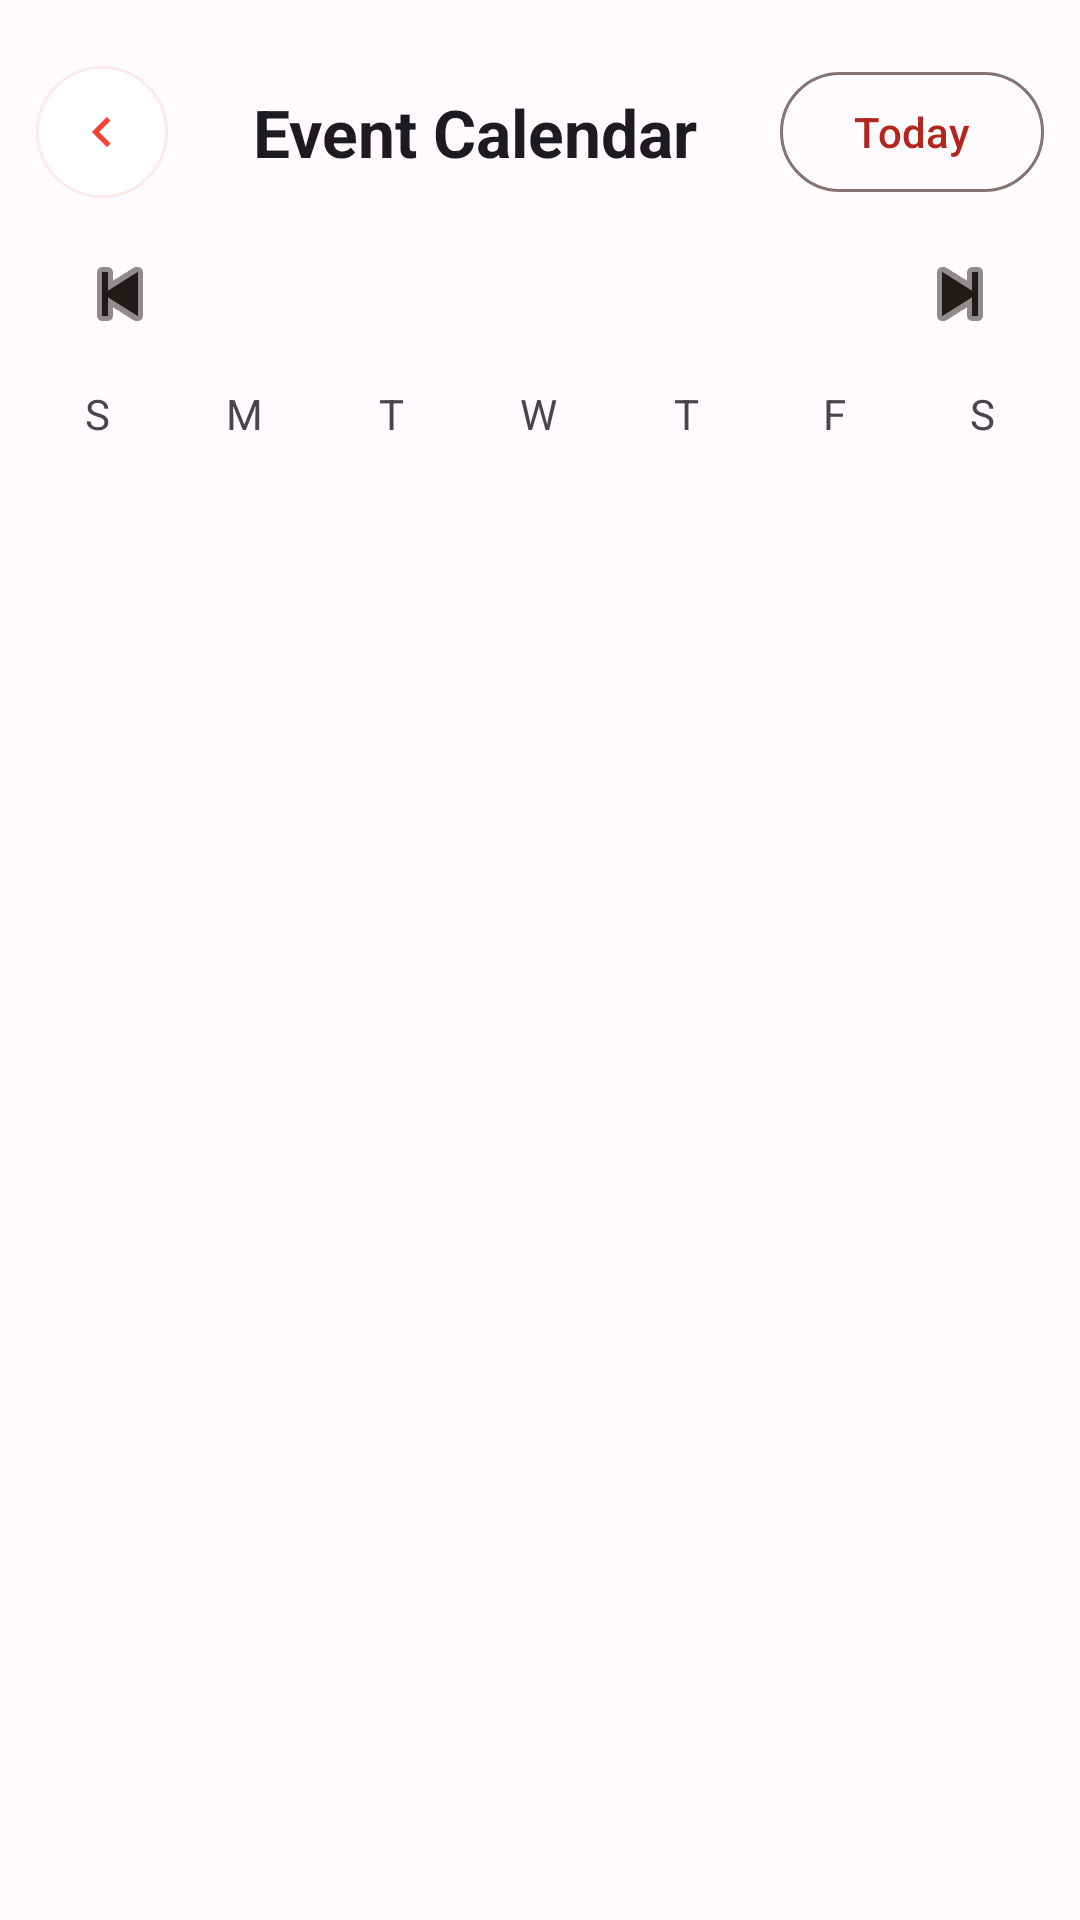

Icon bounding boxes for this 1080px x 1920px phone screenshot, format region(x1, y1, x2, y2):
Next month: region(937, 267, 983, 321)
Previous month: region(97, 267, 143, 321)
